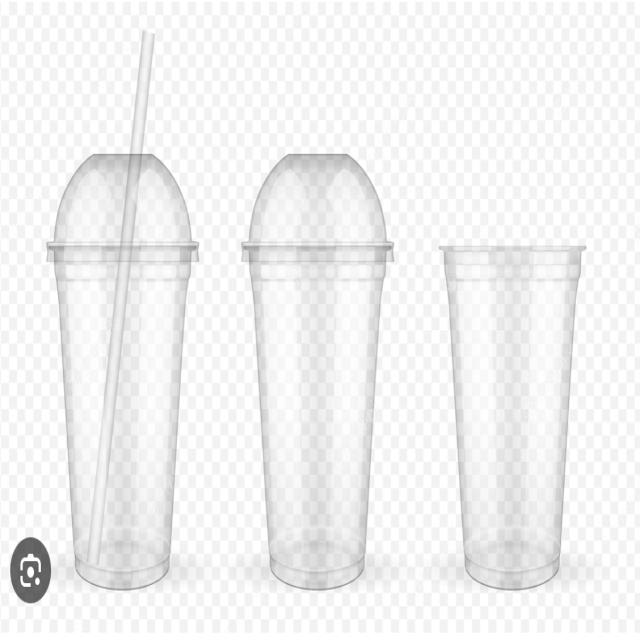recyclable: (228, 113, 402, 600), (48, 122, 202, 592), (429, 212, 597, 595)
